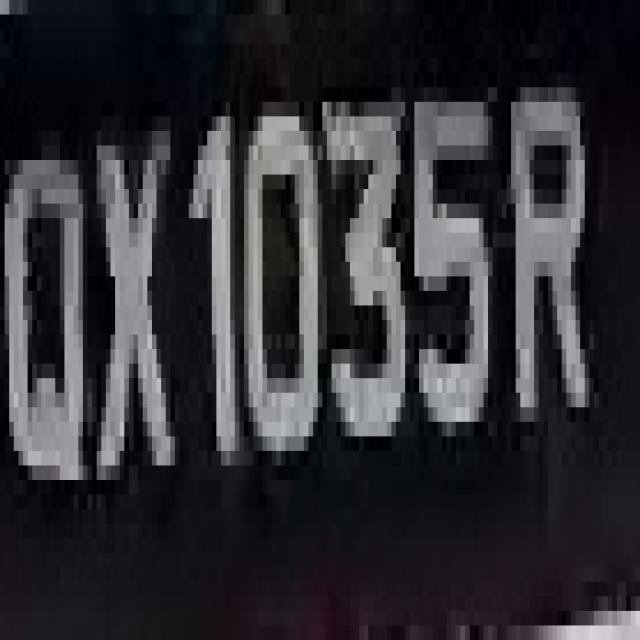0: (235, 44, 327, 524)
1: (184, 73, 240, 538)
3: (322, 29, 410, 451)
5: (405, 29, 502, 480)
Q: (9, 72, 97, 524)
R: (497, 43, 599, 466)
X: (88, 102, 180, 480)
